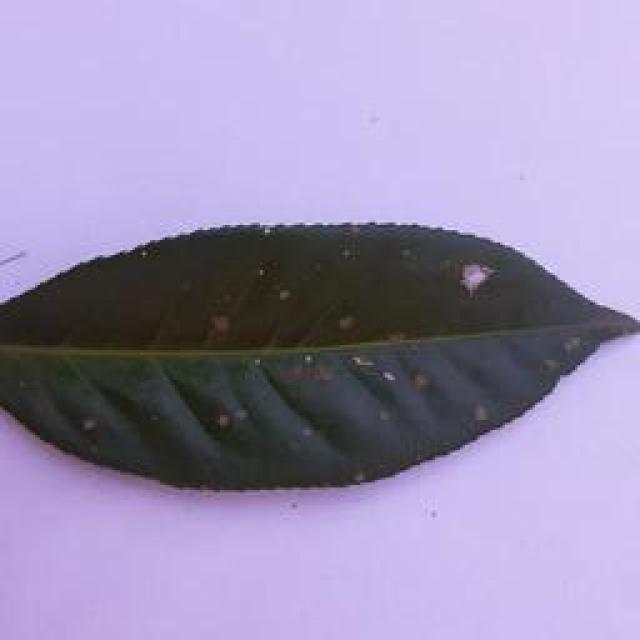Algal Leaf Spot: (0, 208, 630, 505)
